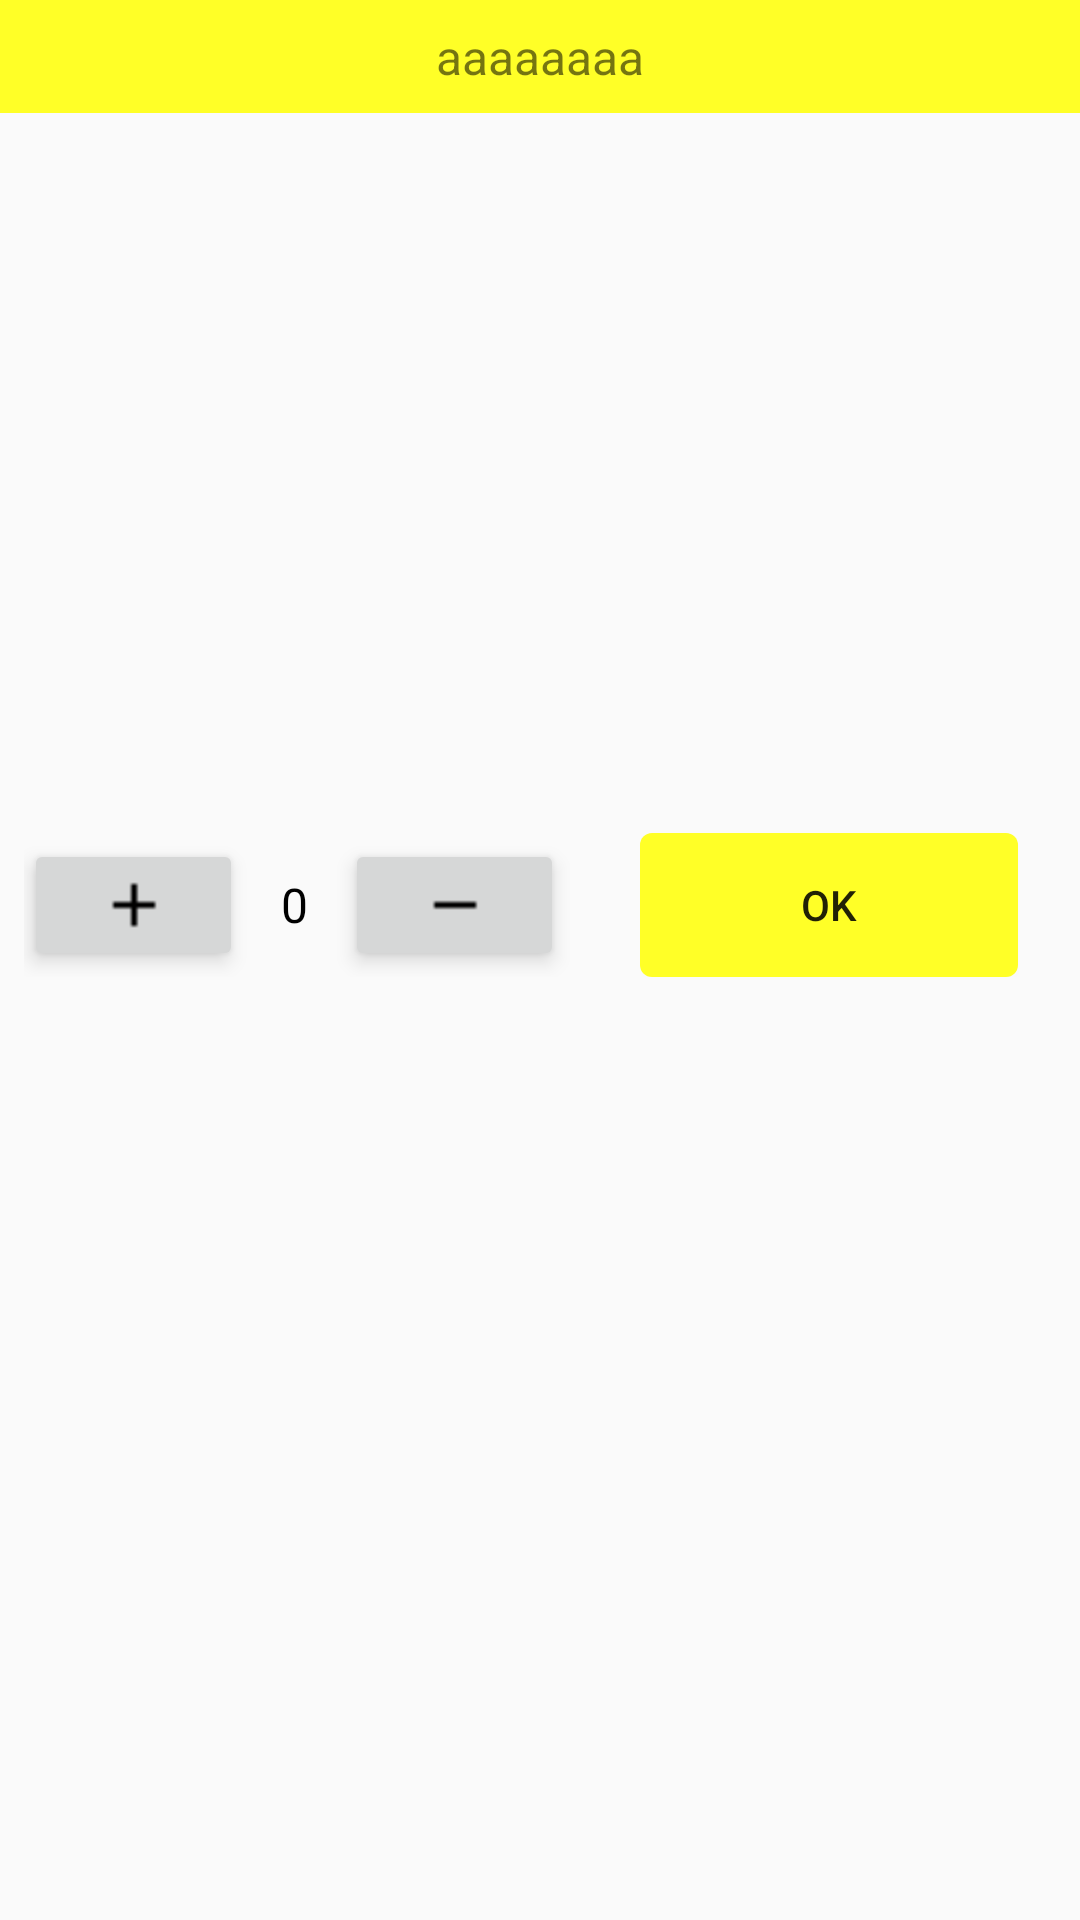

Locate icon controls on the screen. Image size 1080 x 1920, boxes as (x1, y1, x2, y2).
add: (34, 857, 231, 957)
remove: (357, 857, 552, 956)
